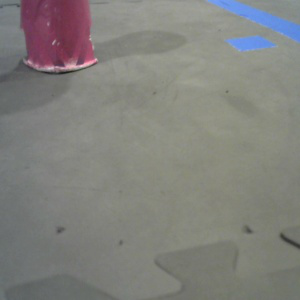middle: (20, 1, 98, 73)
